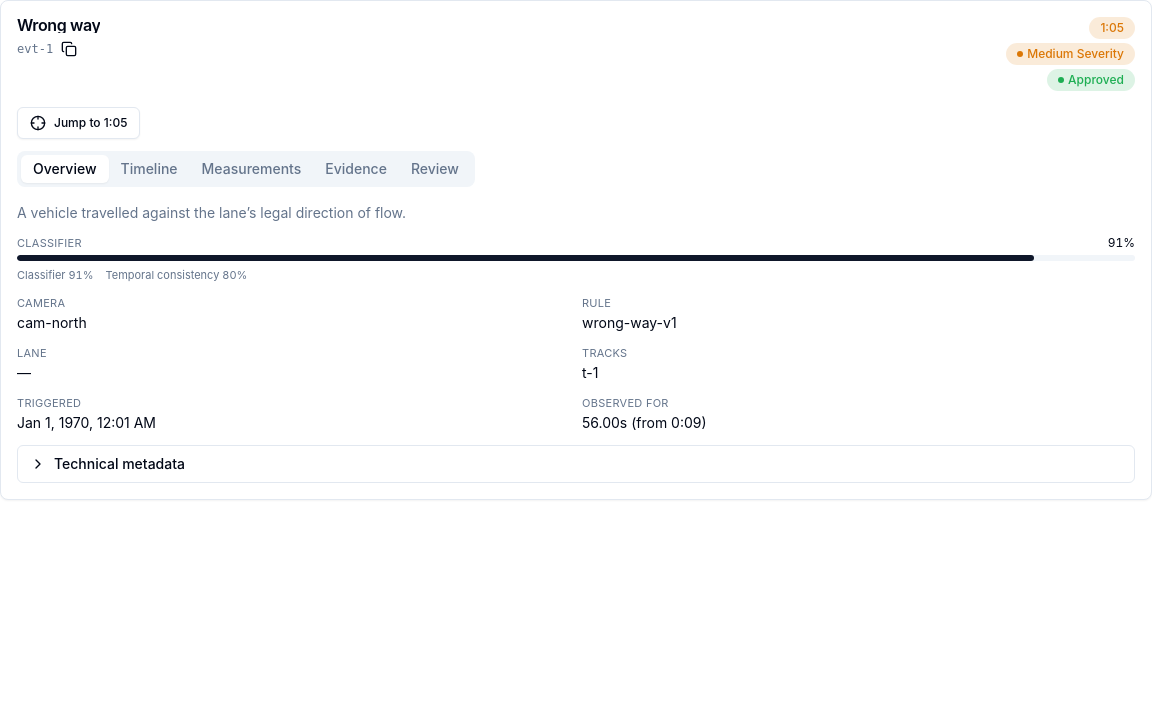
EventDetail (H7E) › renders the analyst decision surface as a Review tab
Check: the text "Approved" is shown, box [1047,69,1135,91]
What coordinates should you click on to do the following:
click the tab "Review"
I would click on:
 (435, 169)
Its box is [399,155,471,183].
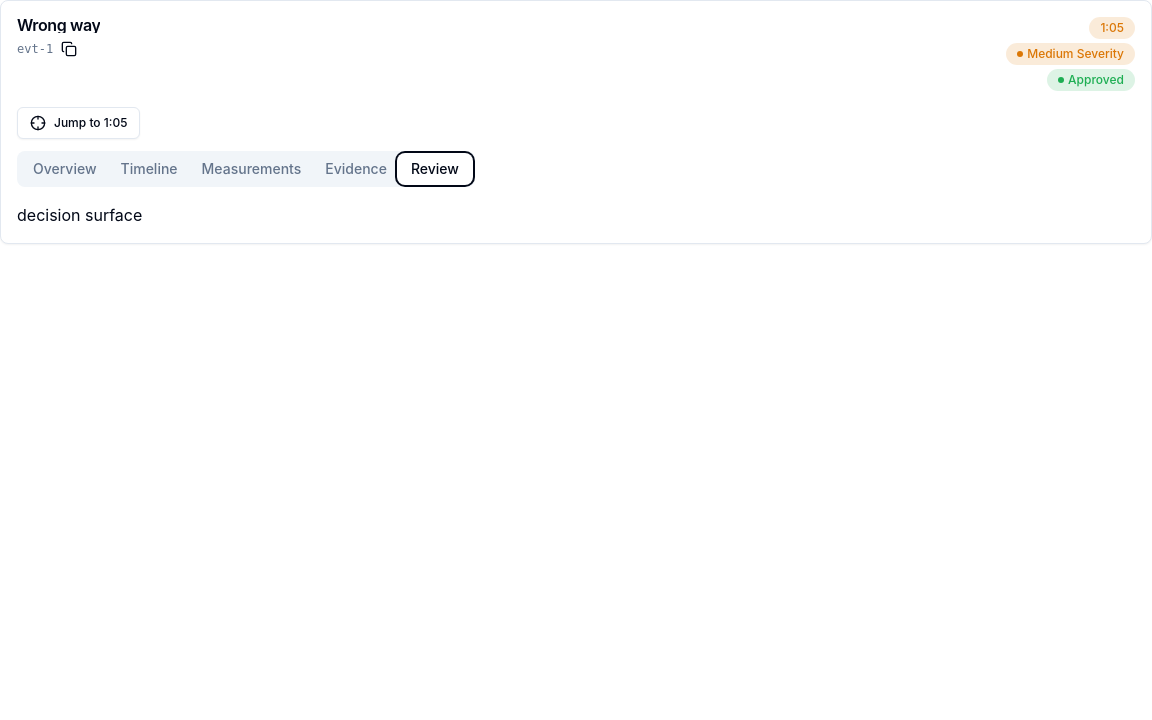
Check: the text "decision surface" is shown, box [17,205,142,225]
